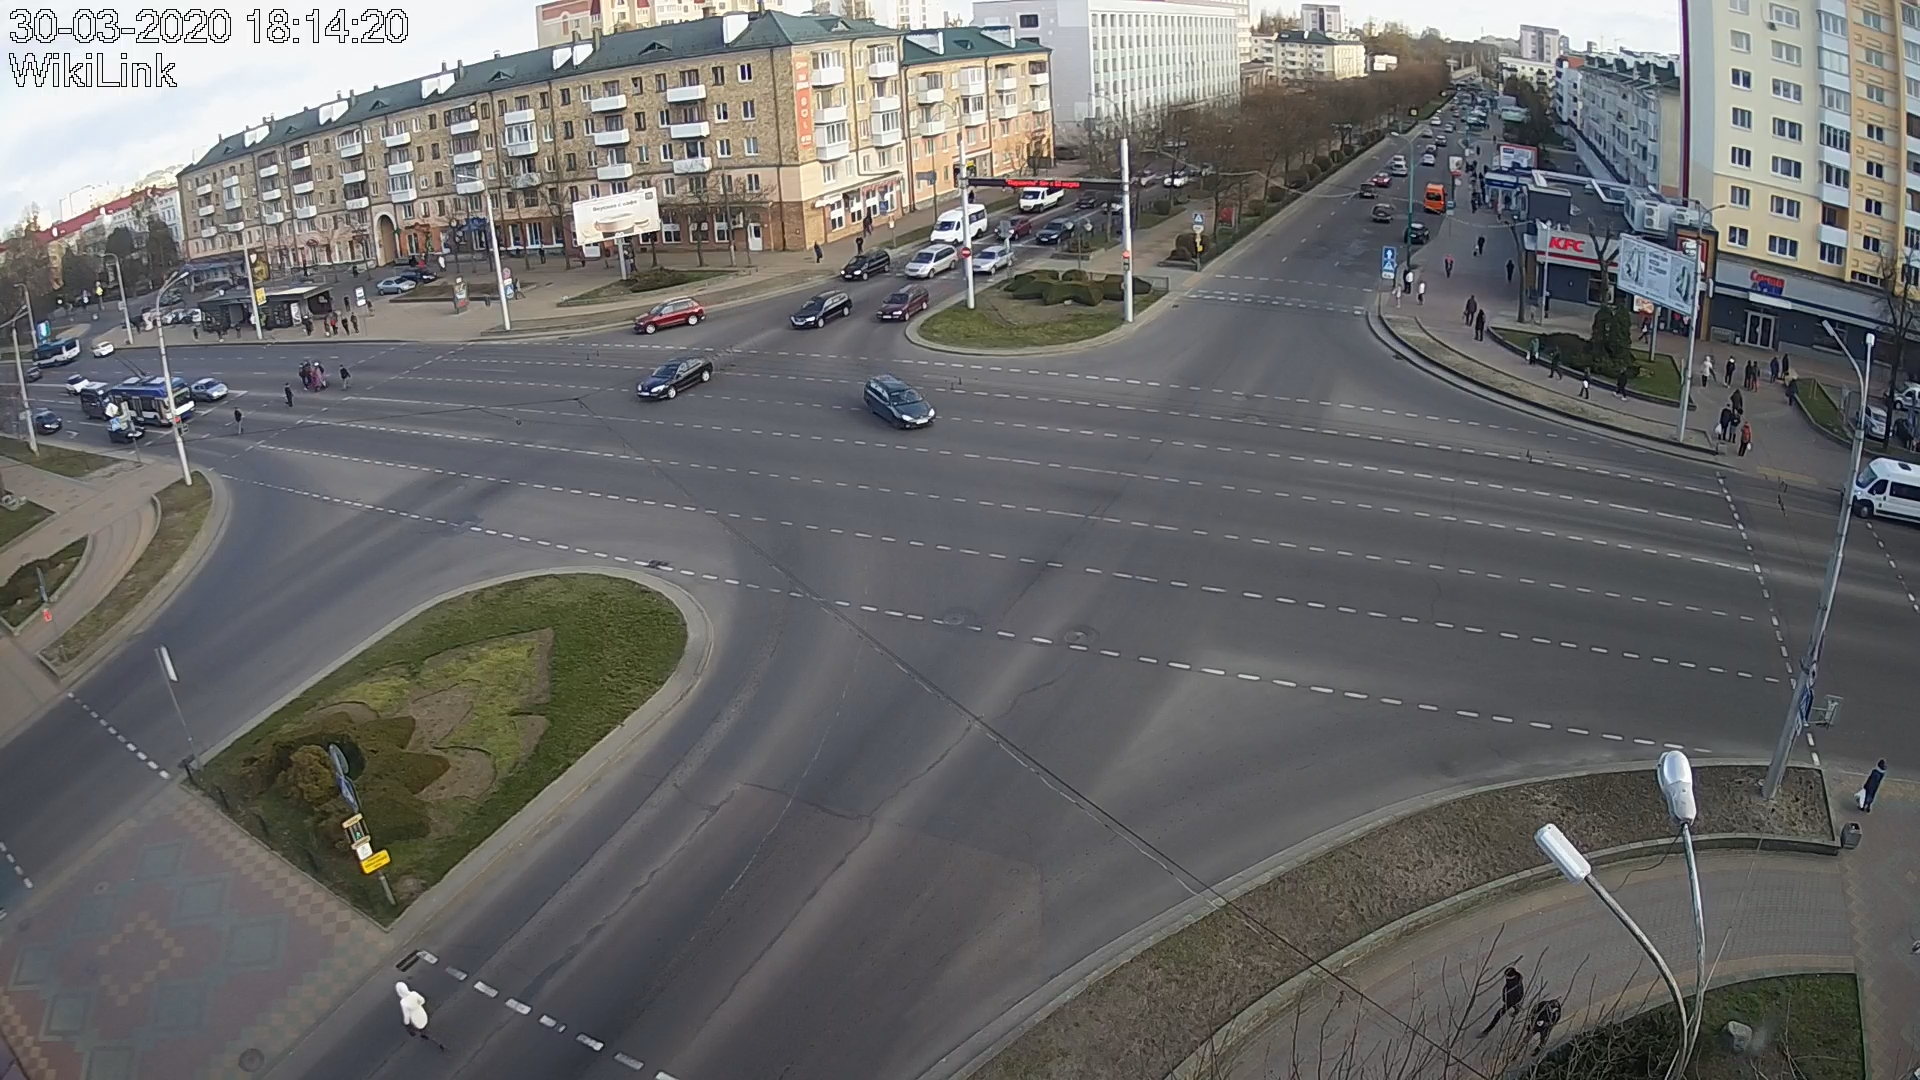bus: (111, 376, 196, 426)
car: (862, 375, 936, 429), (636, 352, 713, 400), (633, 295, 705, 334), (789, 289, 853, 328), (928, 203, 988, 244), (877, 284, 930, 322), (905, 243, 959, 280), (841, 249, 890, 282), (79, 381, 119, 419), (973, 244, 1015, 276), (1038, 218, 1076, 247), (996, 215, 1033, 240), (190, 377, 227, 402), (34, 411, 62, 435), (109, 425, 145, 442)
